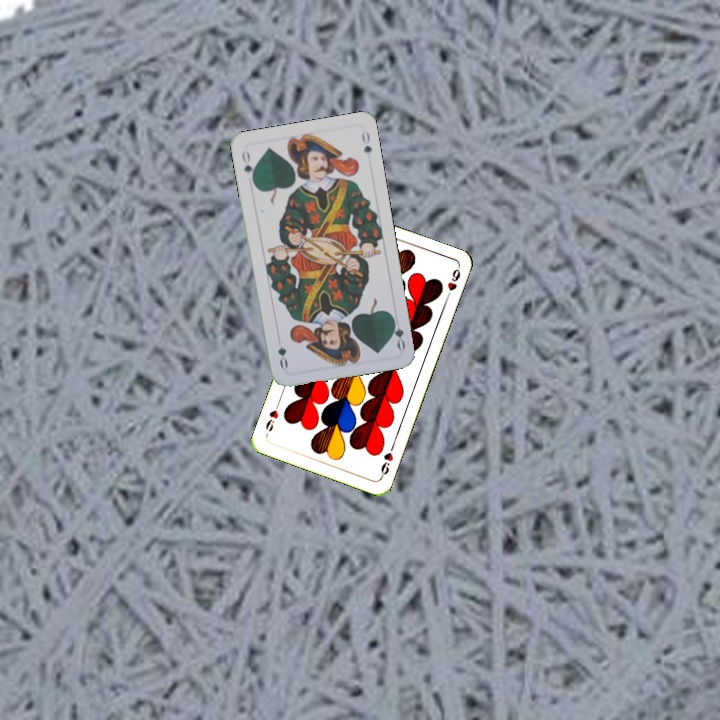GO: (388, 311, 408, 352), (238, 146, 257, 186)
H9: (377, 441, 397, 480)
